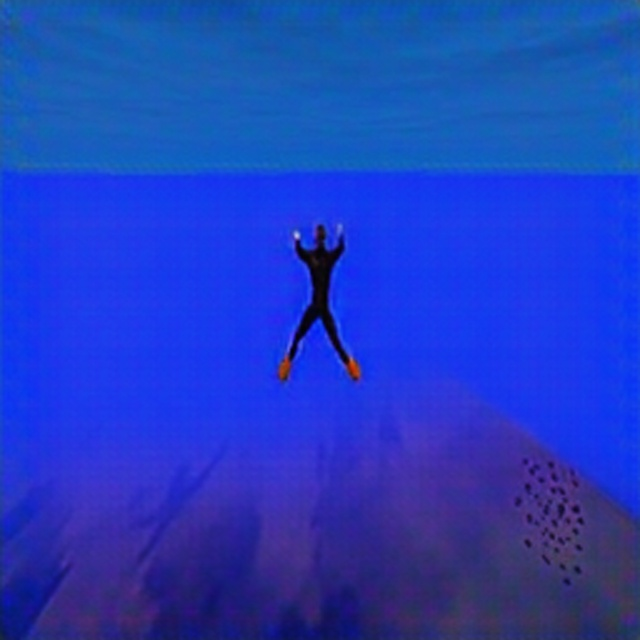diver: (276, 216, 362, 387)
